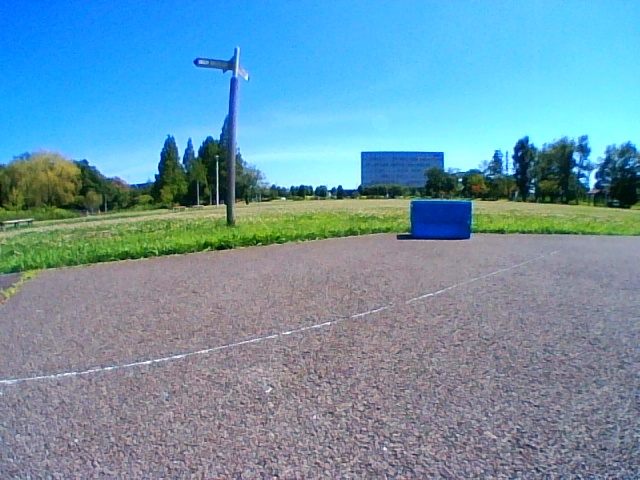blue_box: (411, 200, 472, 239)
